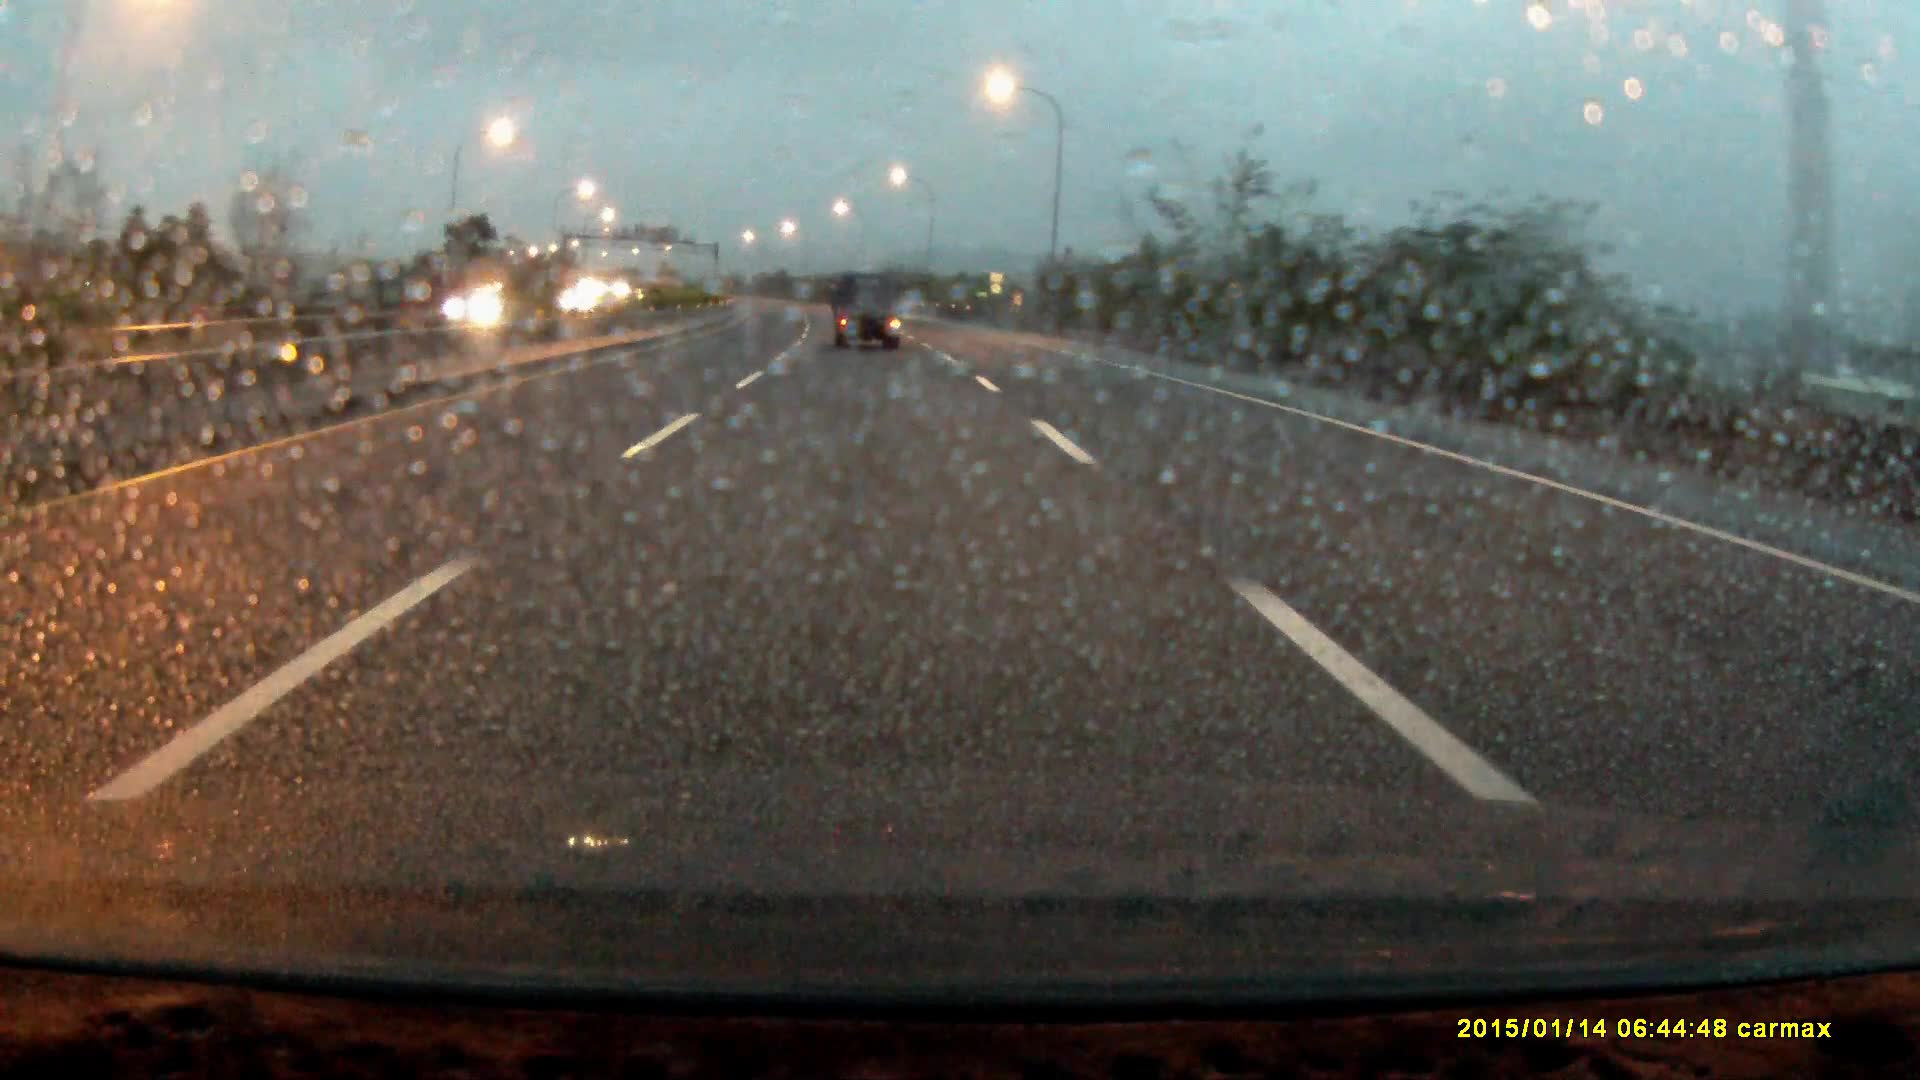vehicle: (833, 276, 902, 351), (436, 287, 521, 327)
